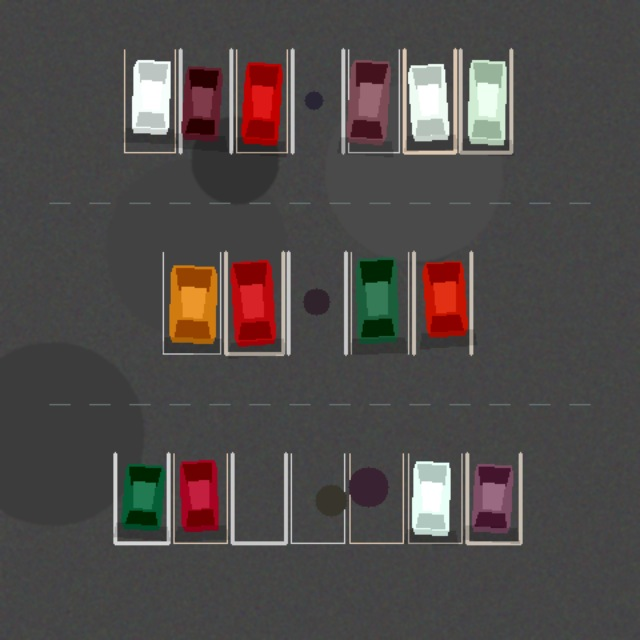space-empty: (288, 252, 345, 353), (292, 49, 343, 152), (349, 453, 403, 543), (232, 453, 285, 543), (291, 453, 344, 543)
space-occupied: (225, 252, 283, 353), (413, 252, 471, 353), (163, 252, 220, 353), (351, 252, 408, 353), (124, 49, 175, 152), (180, 49, 231, 152), (236, 49, 287, 152), (348, 49, 399, 152), (404, 49, 455, 152), (460, 49, 511, 152), (173, 453, 227, 543), (115, 453, 168, 543), (408, 453, 461, 543), (467, 453, 520, 543)
